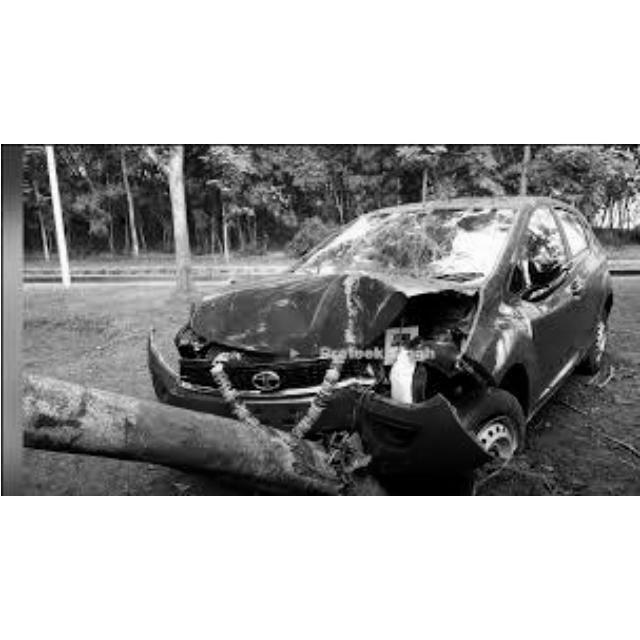Front-windscreen-damage: (353, 208, 509, 275)
bonnet-dent: (197, 274, 480, 377)
front-bumper-dent: (321, 379, 487, 469)
